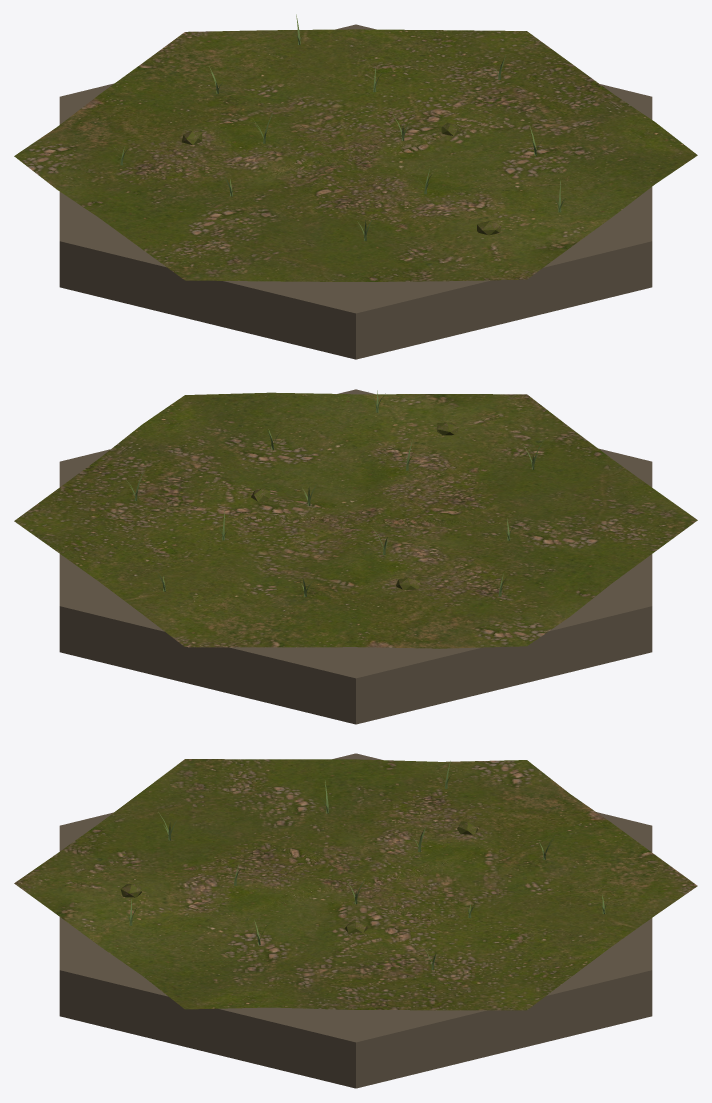
File: rocky-ground-mobile.glb
3 renders of one model, top to bottom at view 1: azimuth 30°, elevation 25°; view 2: azimuth 150°, elevation 25°; view 3: azimuth 270°, elevation 25°, orthographic.
Visible parts, largest first — view 1: Rock grass surface, Cylinder, Scattered grass tufts; view 2: Rock grass surface, Cylinder, Scattered grass tufts; view 3: Rock grass surface, Cylinder, Scattered grass tufts.
Boxes of the visible parts, bbox=[...] form: Rock grass surface: bbox=[14, 29, 697, 281]; Cylinder: bbox=[59, 24, 652, 359]; Scattered grass tufts: bbox=[114, 14, 565, 240]; Rock grass surface: bbox=[14, 392, 697, 648]; Cylinder: bbox=[59, 389, 652, 724]; Scattered grass tufts: bbox=[126, 390, 543, 597]; Rock grass surface: bbox=[14, 759, 697, 1010]; Cylinder: bbox=[59, 753, 652, 1088]; Scattered grass tufts: bbox=[126, 761, 613, 969].
Bounding box in the file's own units: 1.88 × 0.274 × 1.88.
3 materials, 1 textured.
